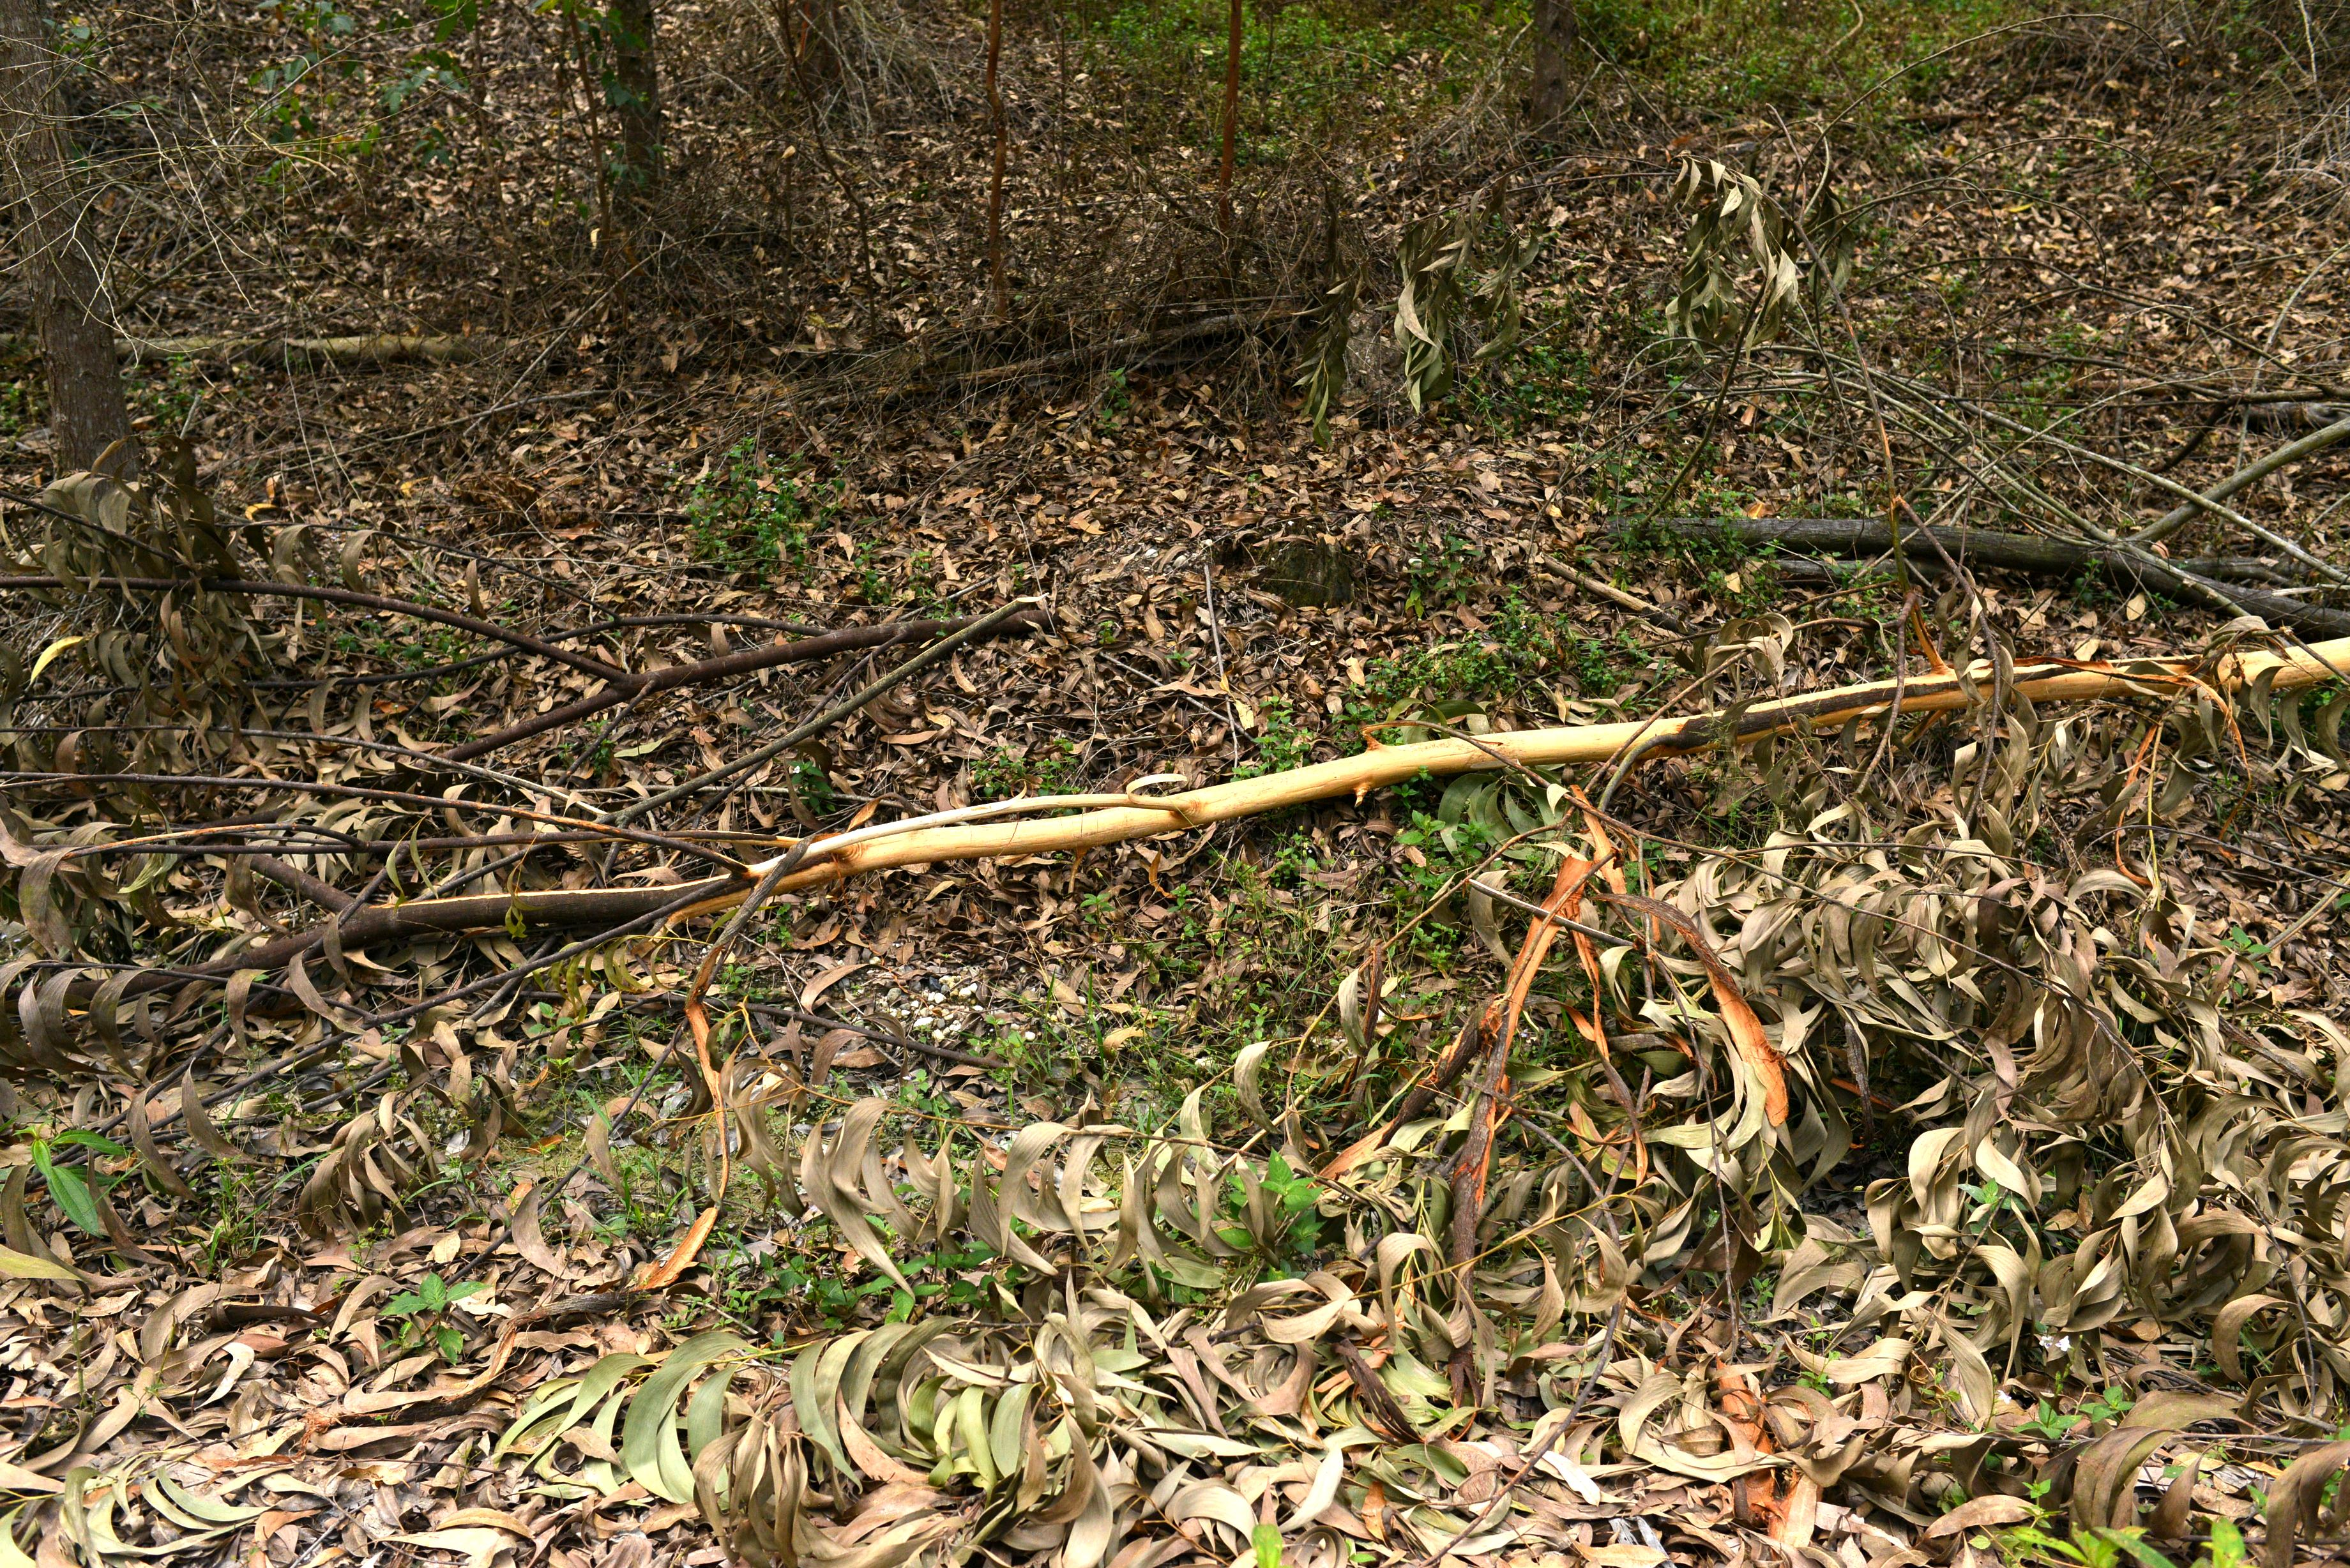Mammals Attack: (702, 633, 2350, 903)
